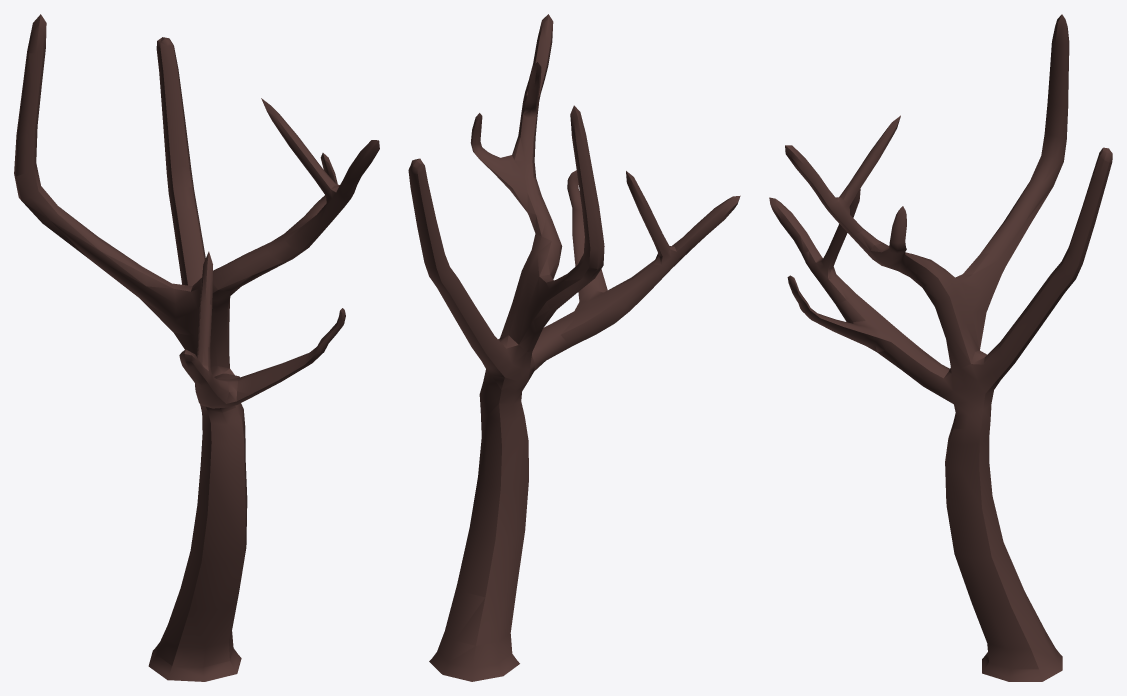
The model's file is tree_dead_3.glb.
3 renders of one model, left to right at view 1: azimuth 30°, elevation 25°; view 2: azimuth 150°, elevation 25°; view 3: azimuth 270°, elevation 25°, orthographic. The views are drawn at different scales.
Parts seen in each view (by area): view 1: tree_dead_3; view 2: tree_dead_3; view 3: tree_dead_3.
Boxes of the visible parts, box(x1,y1,x2,y2) form: tree_dead_3: box(14, 14, 379, 681); tree_dead_3: box(408, 14, 740, 681); tree_dead_3: box(769, 14, 1112, 681).
Size of the model in its own units: 2.21 by 6 by 3.14.
